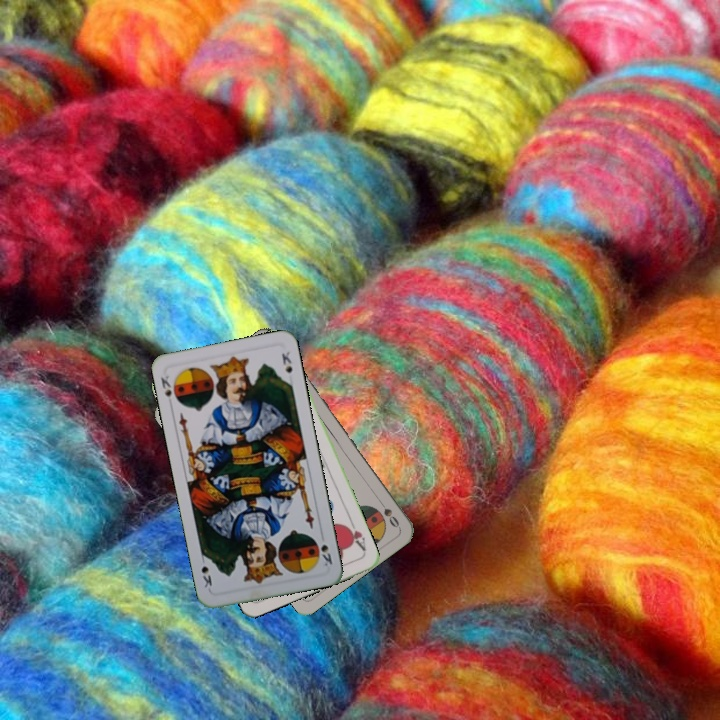HA: (341, 516, 368, 555)
SK: (156, 371, 175, 409), (317, 540, 335, 569)
SO: (373, 495, 402, 530)
